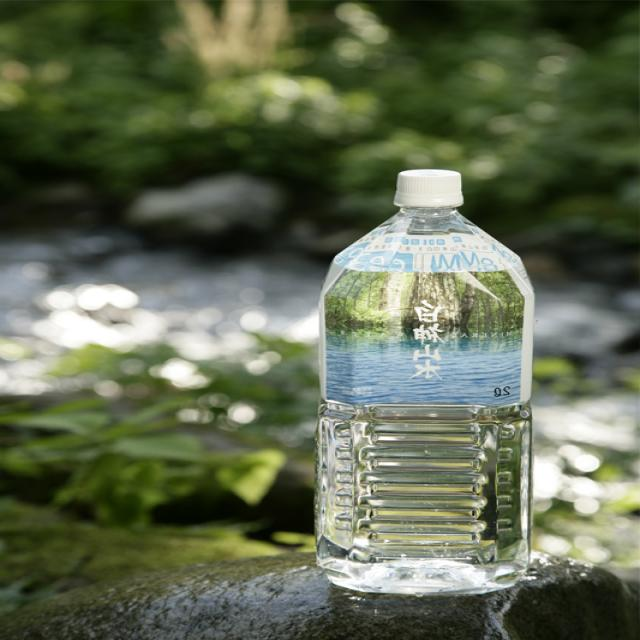plastic: (318, 168, 535, 594)
